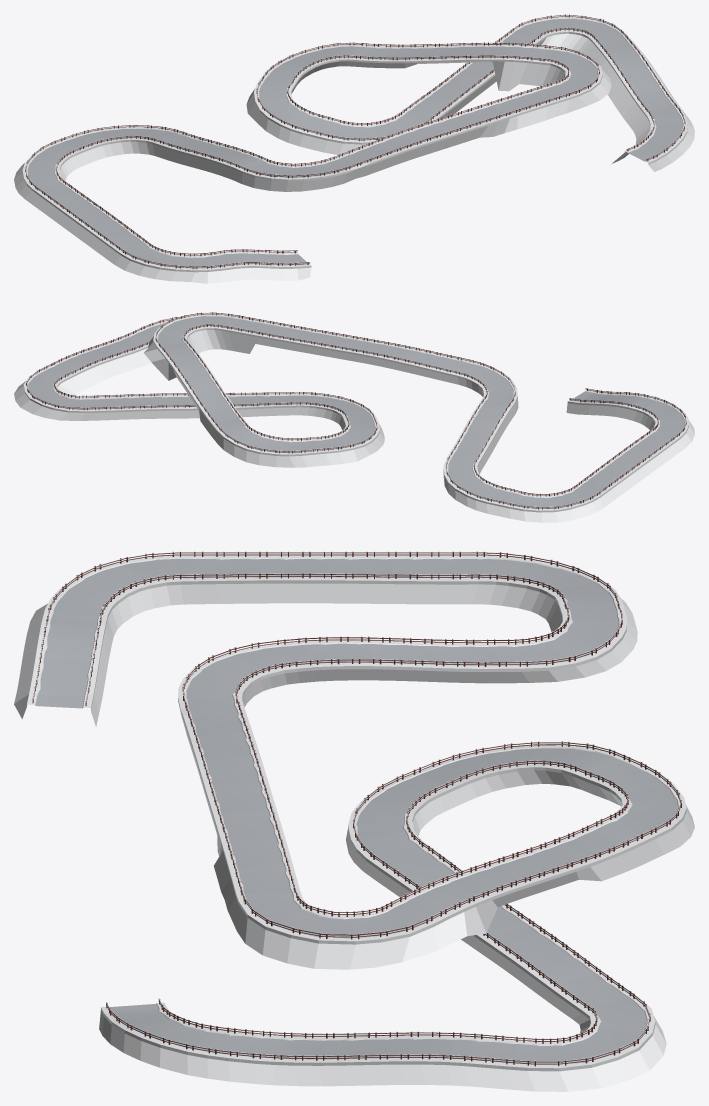
The model's file is Tundra_road.fbx.
3 views of the same model, one above another, from view 1: azimuth 30°, elevation 25°; view 2: azimuth 150°, elevation 25°; view 3: azimuth 270°, elevation 25° (orthographic). The views are drawn at different scales.
Visible parts, largest first — view 1: snow_road; view 2: snow_road; view 3: snow_road.
Boxes of the visible parts, x1=… form: snow_road: x1=14, y1=14, x2=694, y2=283; snow_road: x1=14, y1=312, x2=694, y2=522; snow_road: x1=14, y1=551, x2=694, y2=1091.
Size of what is drawn, in the model's own units: 3844 by 363 by 2115.
